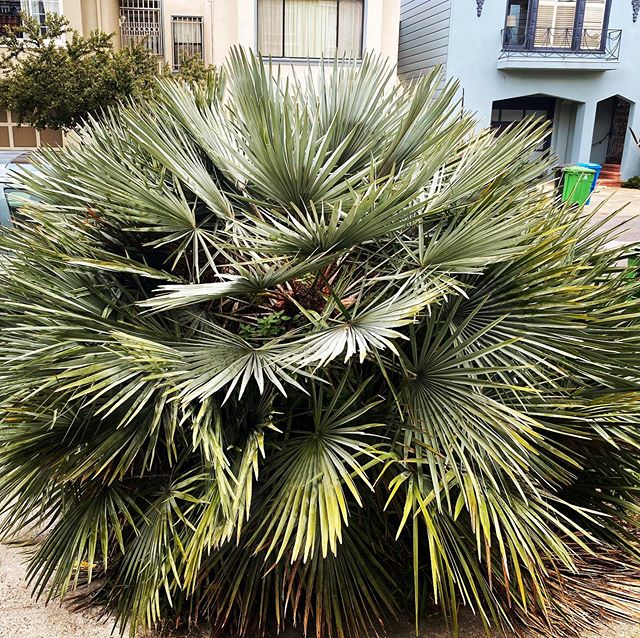building: (1, 1, 398, 142), (410, 1, 640, 183)
vegetation: (1, 67, 598, 614)
